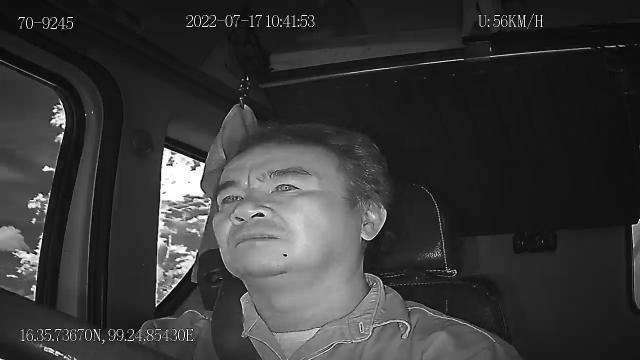SafeDriving: (264, 172, 310, 200), (214, 185, 248, 210)
Seatbelt: (210, 274, 264, 360)
